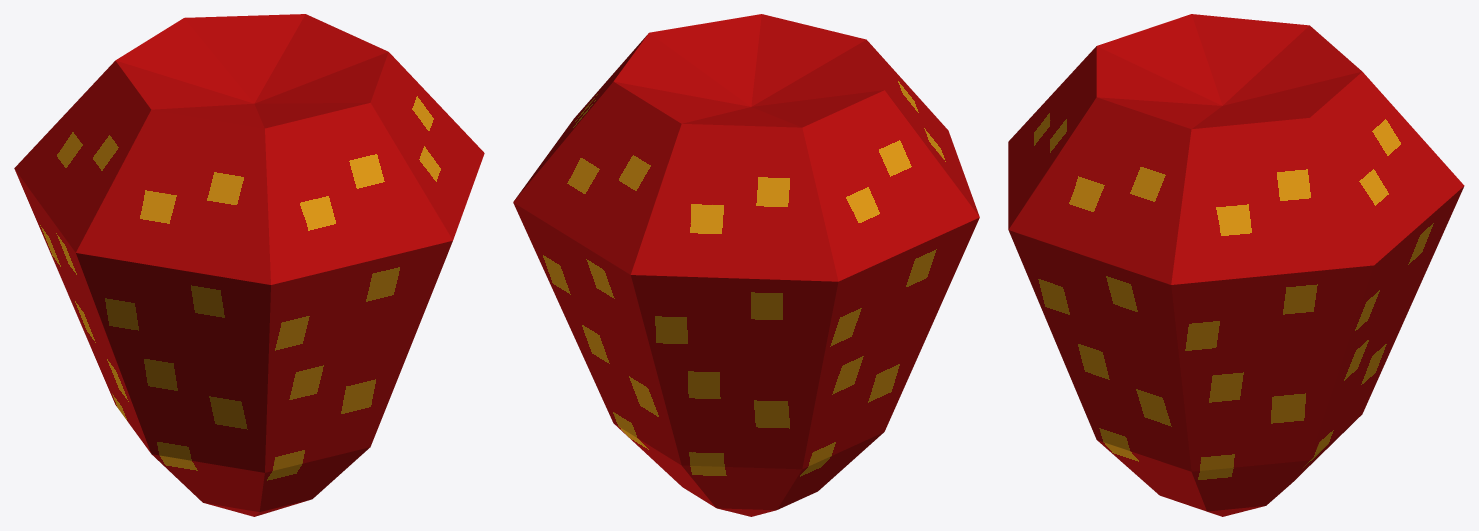
The model's file is strawberry.gltf.
3 views of the same model, side by side, from view 1: azimuth 30°, elevation 25°; view 2: azimuth 150°, elevation 25°; view 3: azimuth 270°, elevation 25° (orthographic).
Visible parts, largest first — view 1: strawberry; view 2: strawberry; view 3: strawberry.
Boxes of the visible parts, x1,y1,x2,y2 form: strawberry: (14,14,484,516); strawberry: (513,14,979,516); strawberry: (1008,14,1464,516).
Bounding box in the file's own units: 0.0583 × 0.0609 × 0.0566.
1 material, 1 textured.
